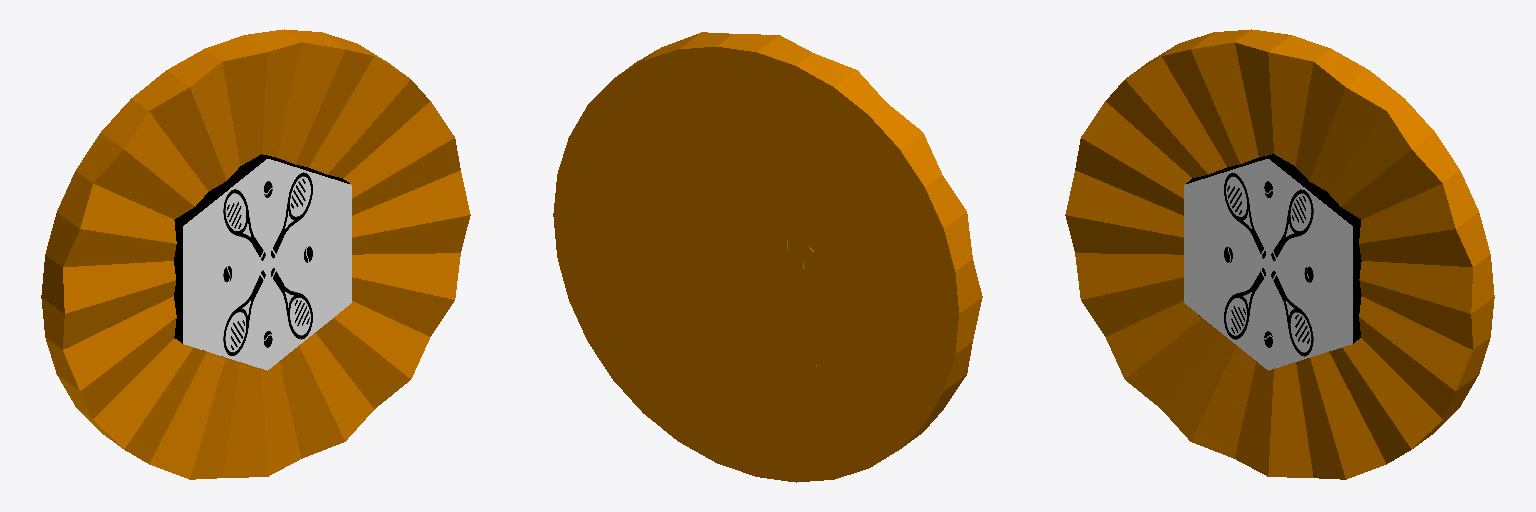
3 views of the same model, side by side, from view 1: azimuth 30°, elevation 25°; view 2: azimuth 150°, elevation 25°; view 3: azimuth 330°, elevation 25° (orthographic).
Visible parts, largest first — view 1: Cylinder; view 2: Cylinder; view 3: Cylinder.
Part boxes in pixels (x1,y1,x2,y2): Cylinder: (41,29,470,479); Cylinder: (553,32,982,482); Cylinder: (1065,29,1494,479).
Size of the model in its own units: 10 by 10 by 1.
3 materials, 1 textured.